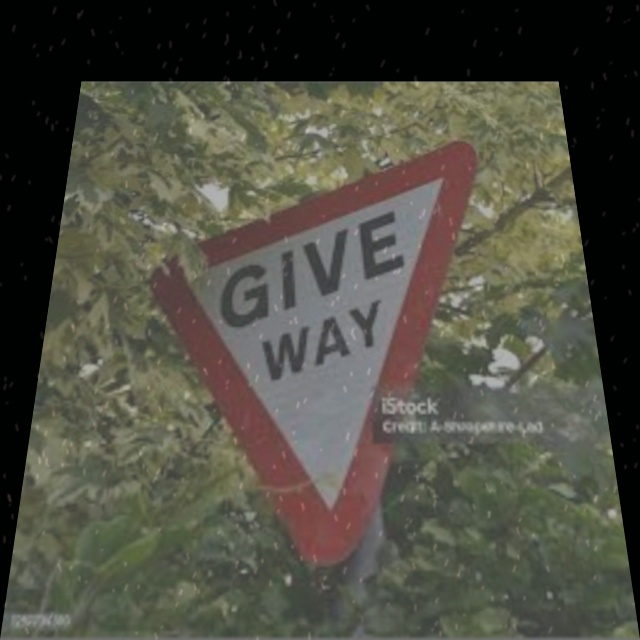Give_Way: (130, 150, 498, 543)
